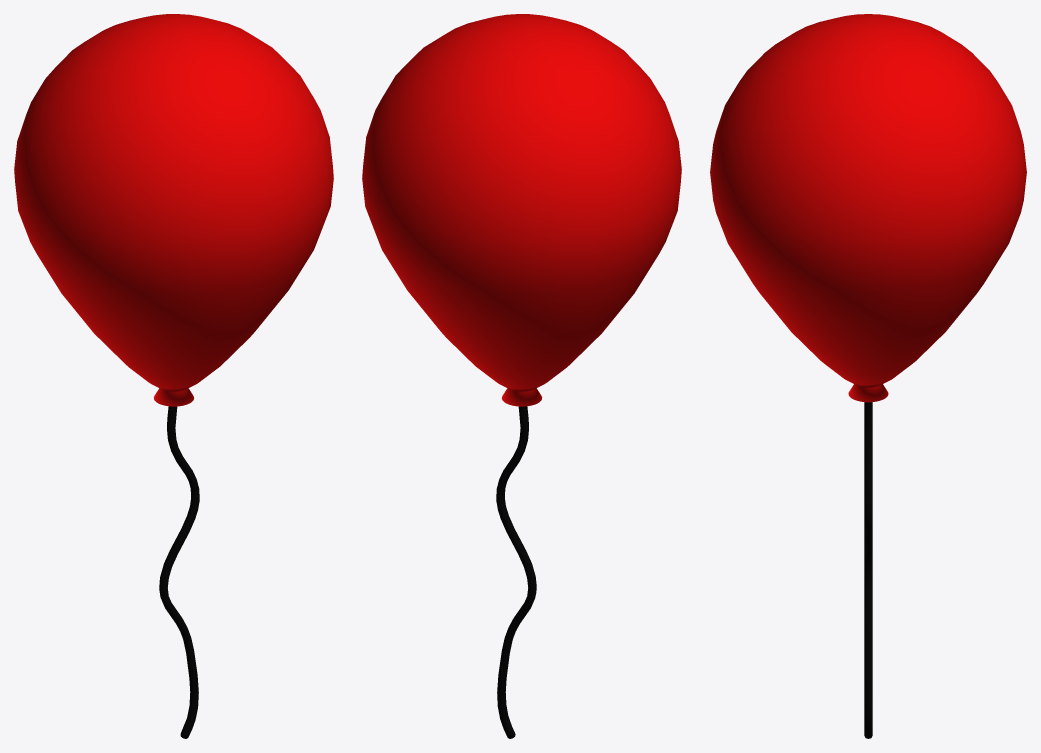
The picture shows the model from 3 angles, left to right: view 1: azimuth 30°, elevation 25°; view 2: azimuth 150°, elevation 25°; view 3: azimuth 270°, elevation 25°; orthographic projection.
Visible parts, largest first — view 1: Baloon, Rope; view 2: Baloon, Rope; view 3: Baloon, Rope.
Boxes of the visible parts, <box> form: Baloon: <box>14,14,333,406</box>; Rope: <box>159,406,199,738</box>; Baloon: <box>362,14,681,406</box>; Rope: <box>496,406,536,738</box>; Baloon: <box>710,14,1026,402</box>; Rope: <box>864,402,872,738</box>.
Size of what is drawn, in the model's own units: 2 by 4.91 by 2.
